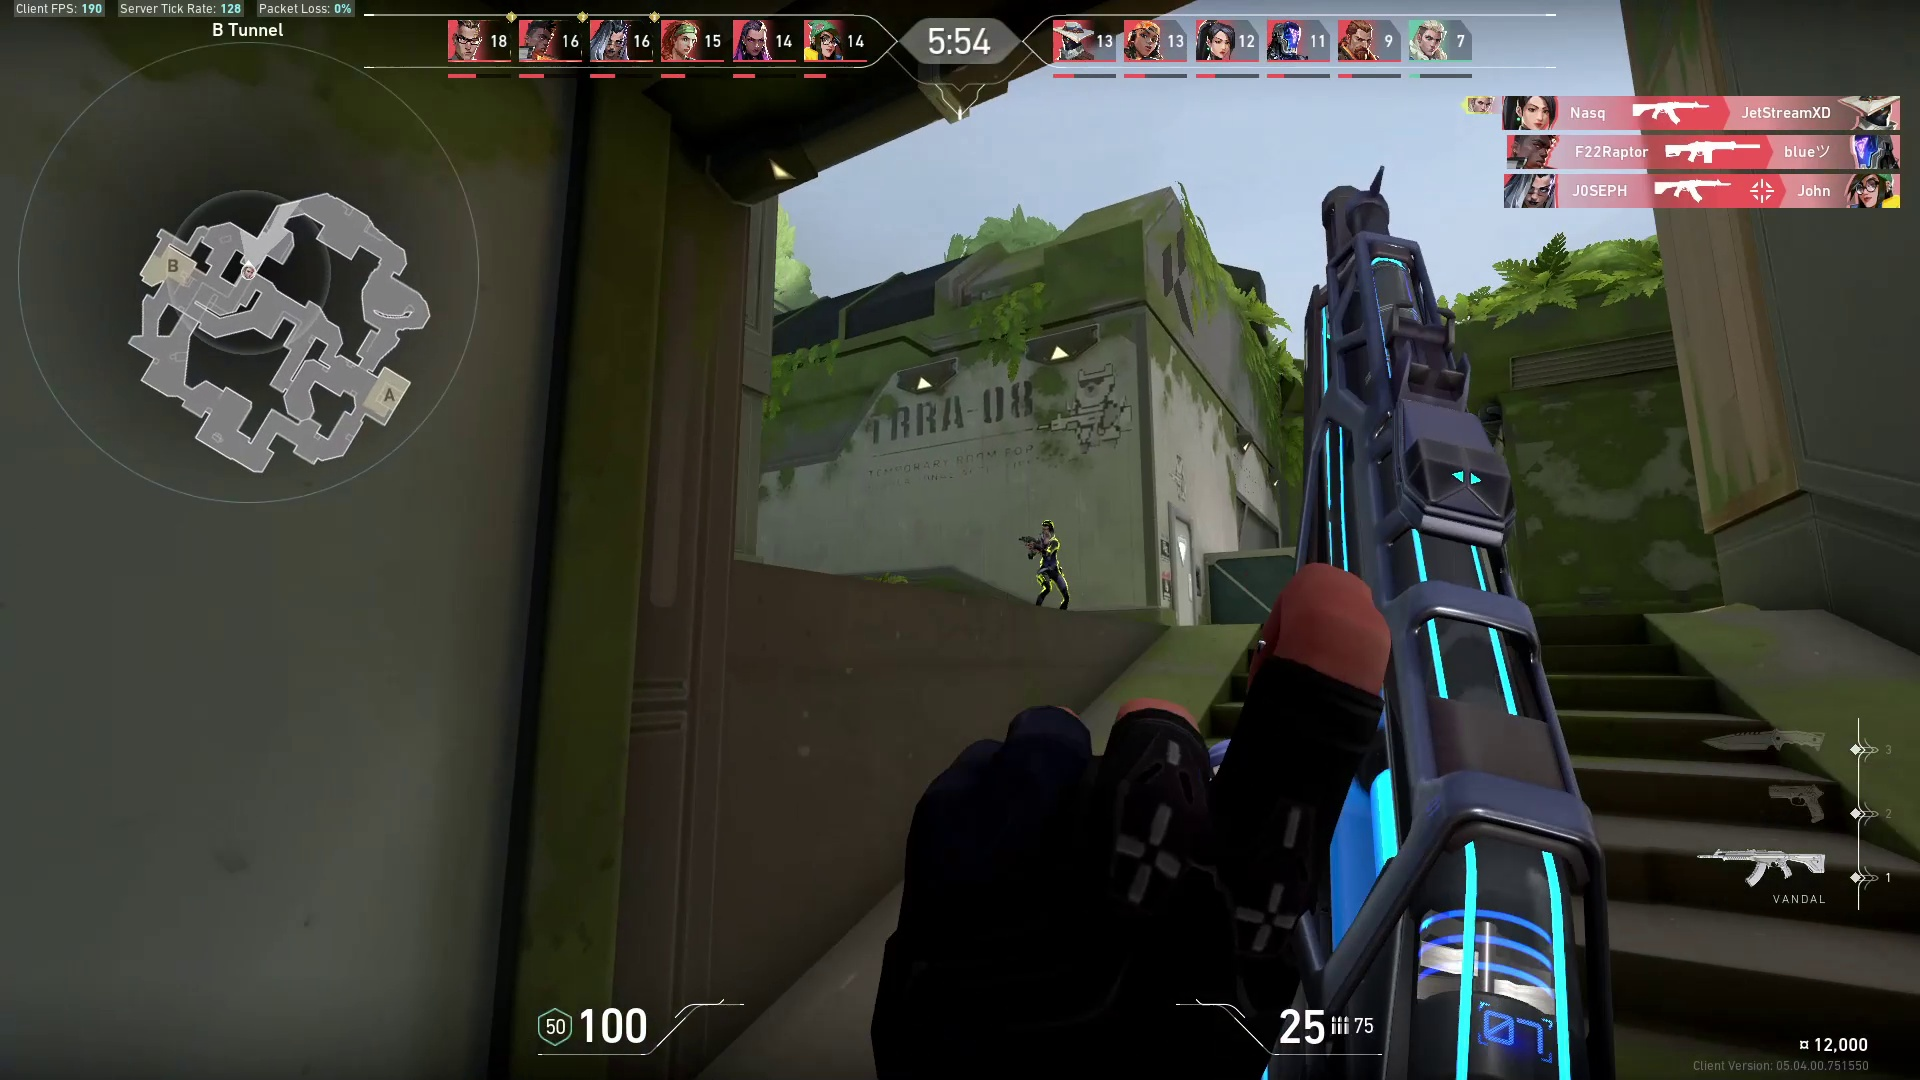enemy_body: (1025, 537, 1080, 614)
enemy_head: (1037, 515, 1058, 540)
